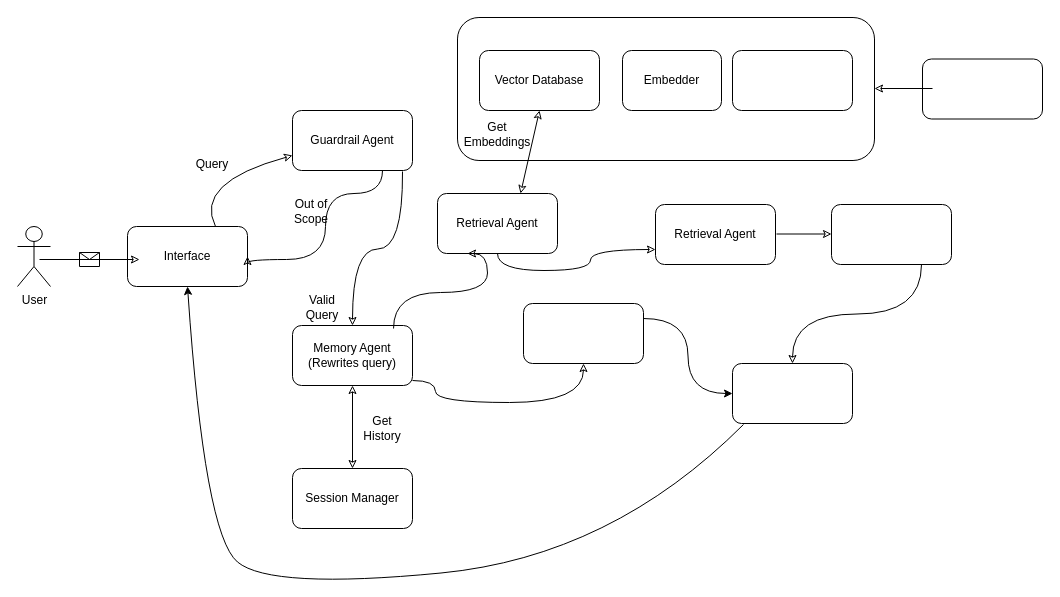
The diagram is 1060 pixels wide and 597 high, and some of its shapes have lost their labels. The shapes that lost their labels are listed below. From the top down, each one's centre as x and y in pixels, then its label:
At point 792,80: "Clause-based chunking".
At point 982,88: "Ingestion script (ingest.py)".
At point 891,234: "Re-ranking".
At point 583,333: "Query Classification".
At point 792,393: "Answer Generation Agent".
